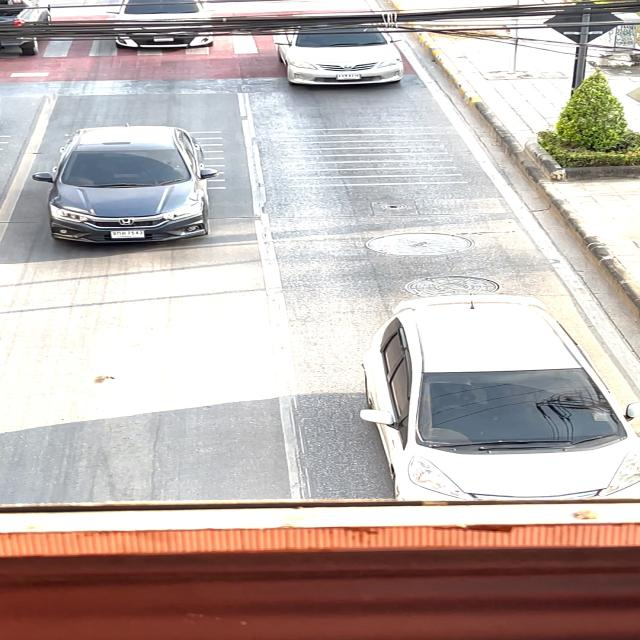car: (338, 286, 640, 508), (23, 114, 223, 264), (263, 18, 422, 98), (113, 0, 223, 64)
